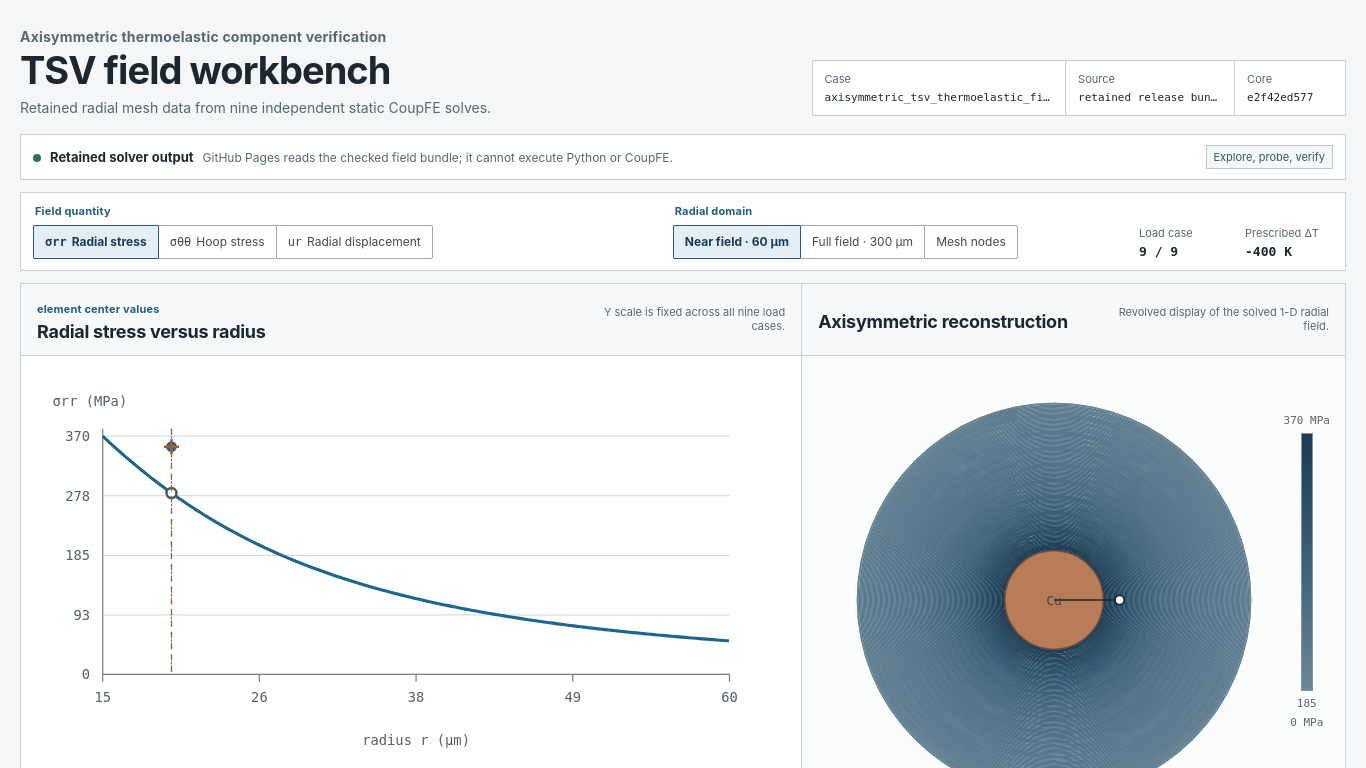
Test: real CoupFE field explorer › switches among retained stress and displacement outputs
The image size is (1366, 768).
Expected: the heading "Radial stress versus radius" is shown, 37,321 -> 266,342
Step 1. Click the button "Hoop stress" → [217, 242], box 158,225 -> 276,259
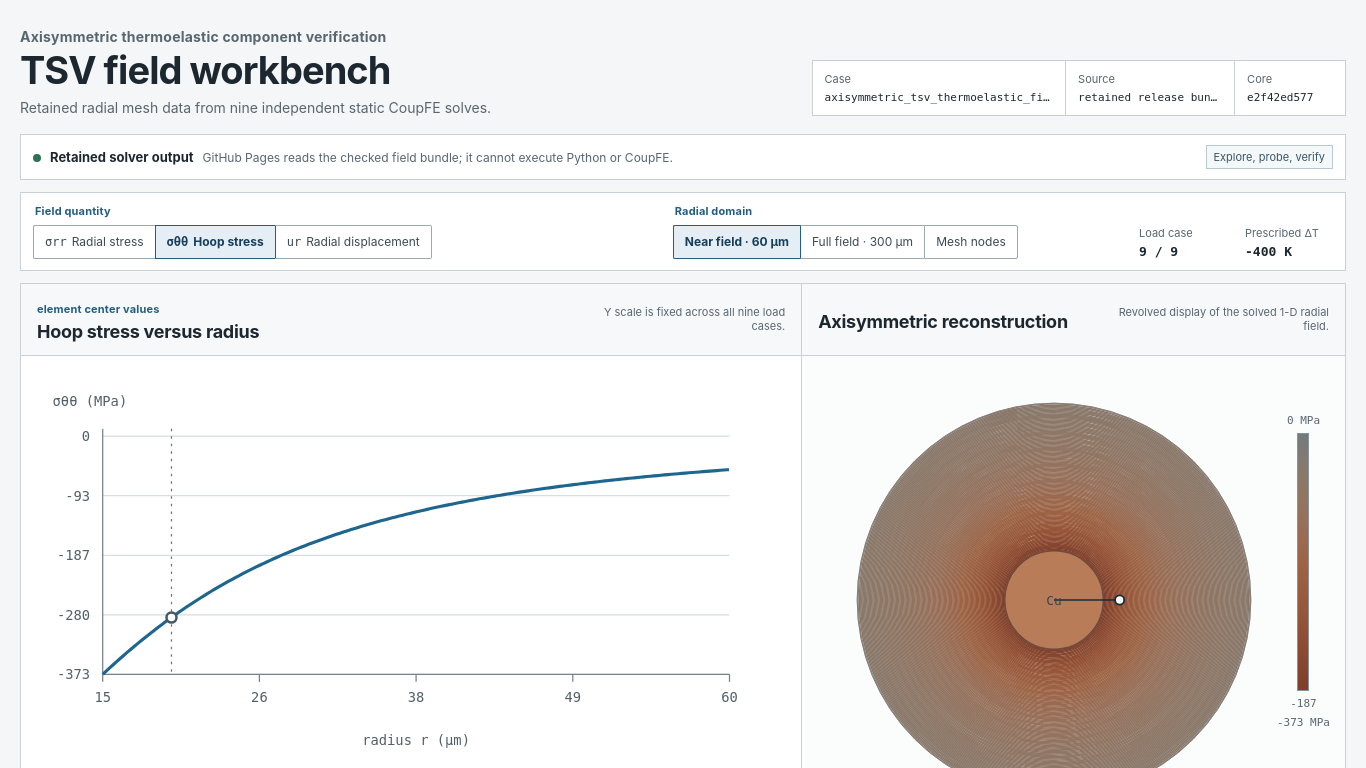
Result: the heading "Hoop stress versus radius" is shown at 37,321 -> 259,342
Step 2. Click the button "Radial displacement" → [353, 242], box 275,225 -> 432,259
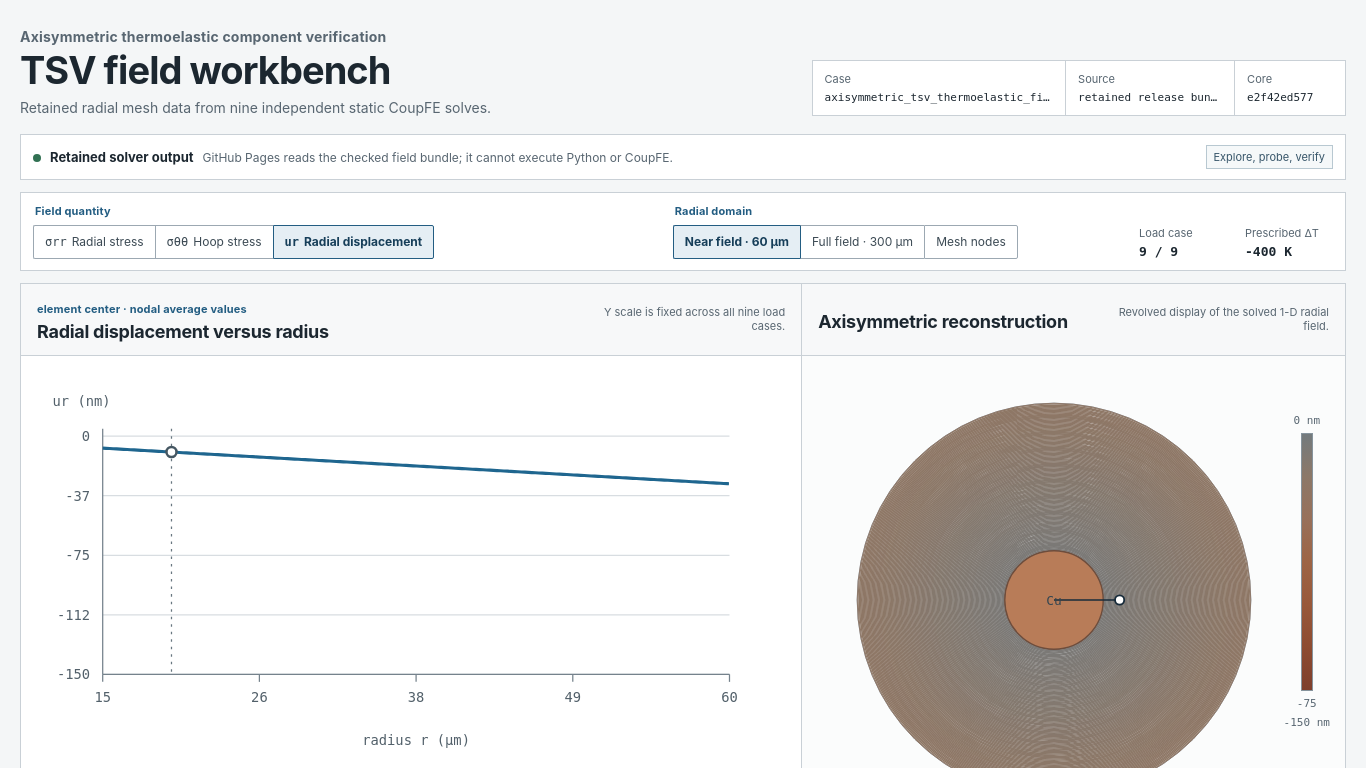
Result: the heading "Radial displacement versus radius" is shown at 37,321 -> 329,342
Result: the text "element center · nodal average values" is shown at 37,302 -> 247,316
